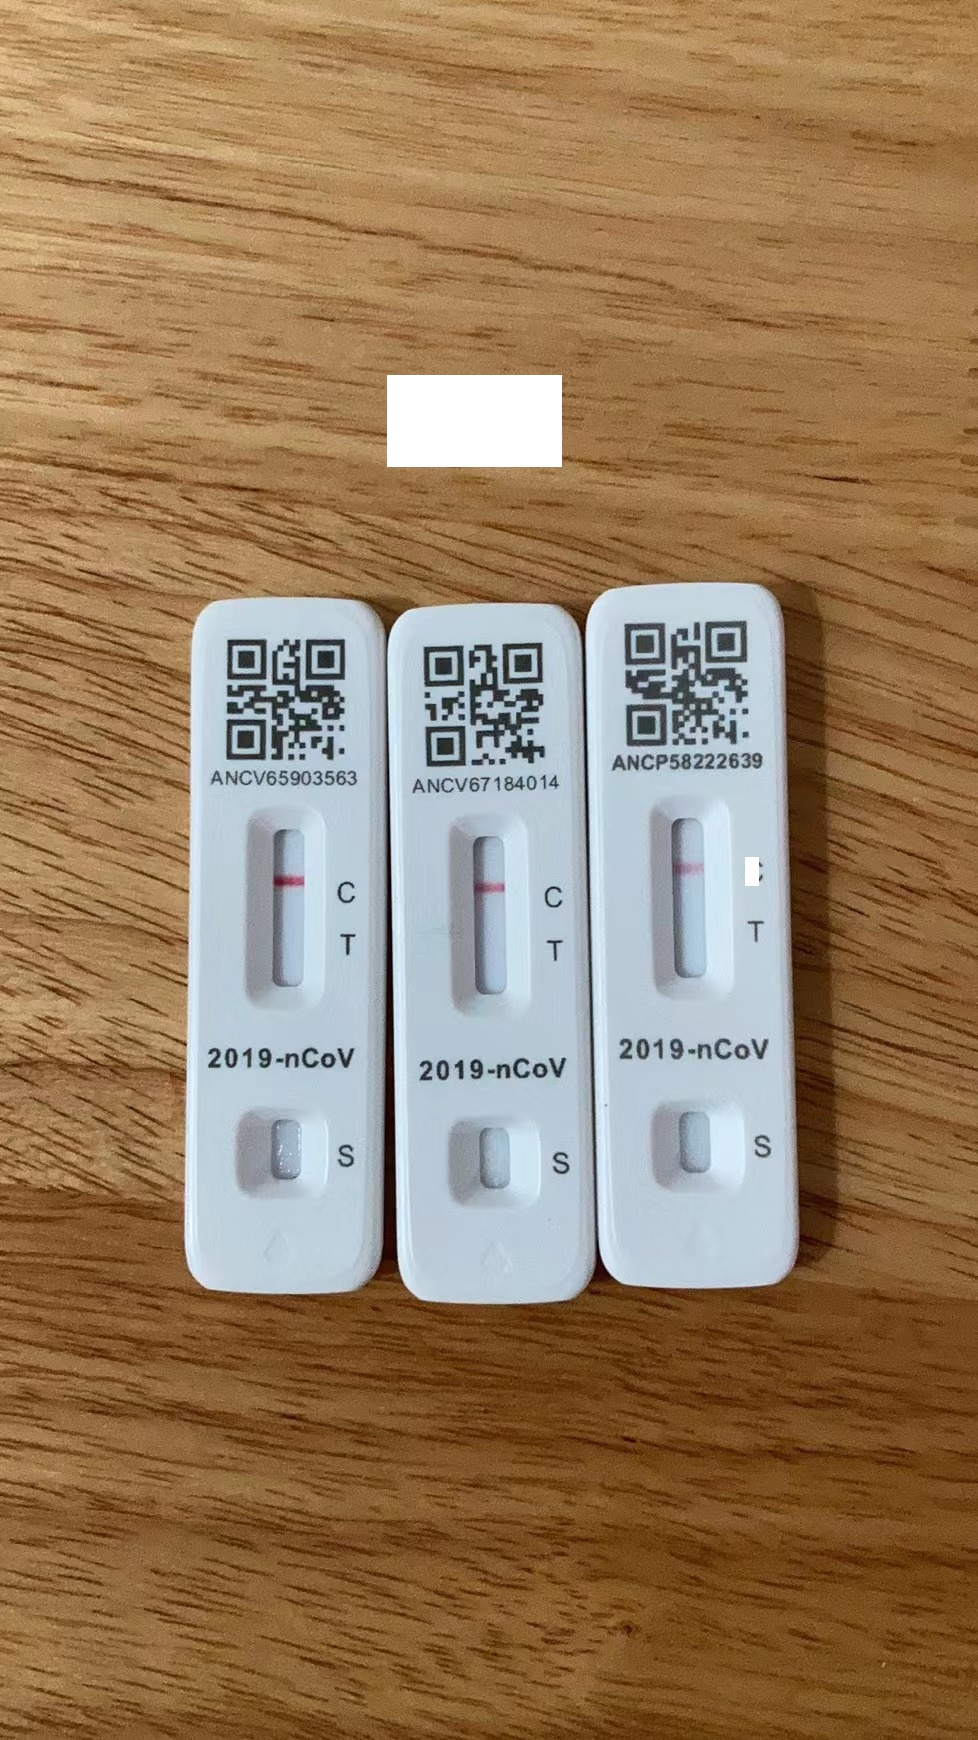negative: (245, 804, 326, 1013), (447, 811, 531, 1015), (648, 792, 731, 998)
